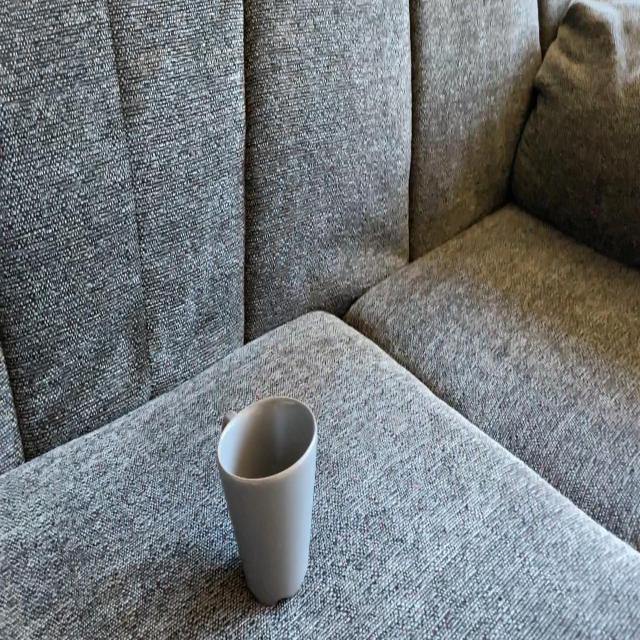cup: (215, 392, 318, 608)
